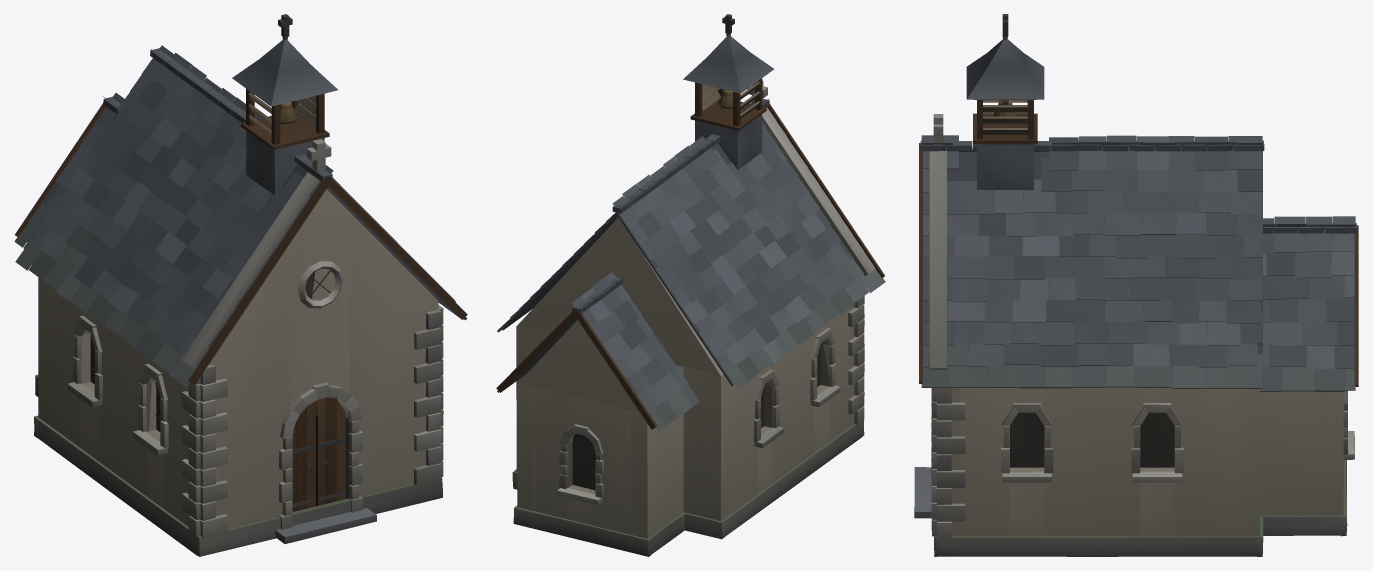
Rendered from ph_bld_chapel_l2.glb.
The picture shows the model from 3 angles, left to right: view 1: azimuth 30°, elevation 25°; view 2: azimuth 150°, elevation 25°; view 3: azimuth 270°, elevation 25°; orthographic projection. The views are drawn at different scales.
Visible parts, largest first — view 1: ph_bld_chapel_l2; view 2: ph_bld_chapel_l2; view 3: ph_bld_chapel_l2.
Boxes of the visible parts, bbox=[...] form: ph_bld_chapel_l2: bbox=[14, 14, 467, 556]; ph_bld_chapel_l2: bbox=[496, 14, 885, 556]; ph_bld_chapel_l2: bbox=[914, 14, 1358, 556].
Bounding box in the file's own units: 5.21 × 8.59 × 7.16.
